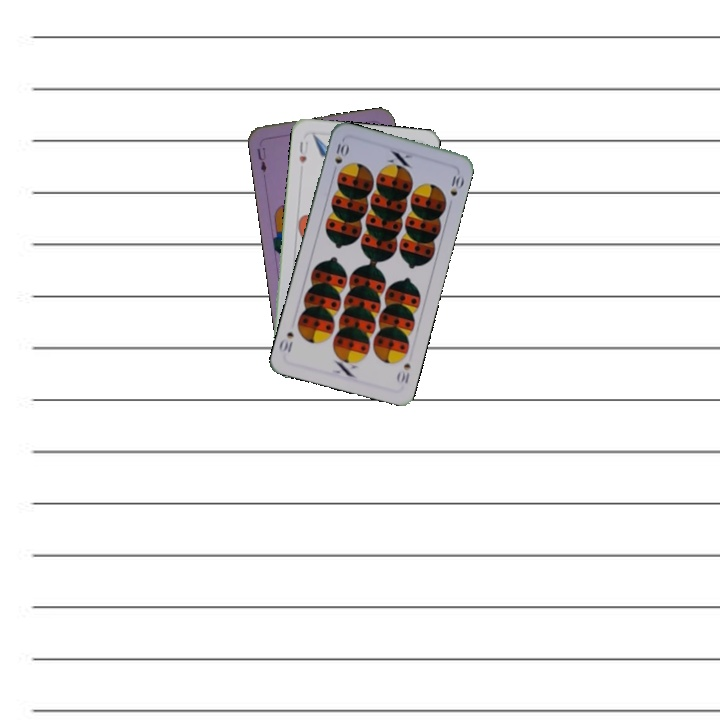EU: (253, 144, 269, 175)
HU: (295, 137, 311, 166)
S10: (330, 137, 351, 176), (393, 359, 413, 387)
